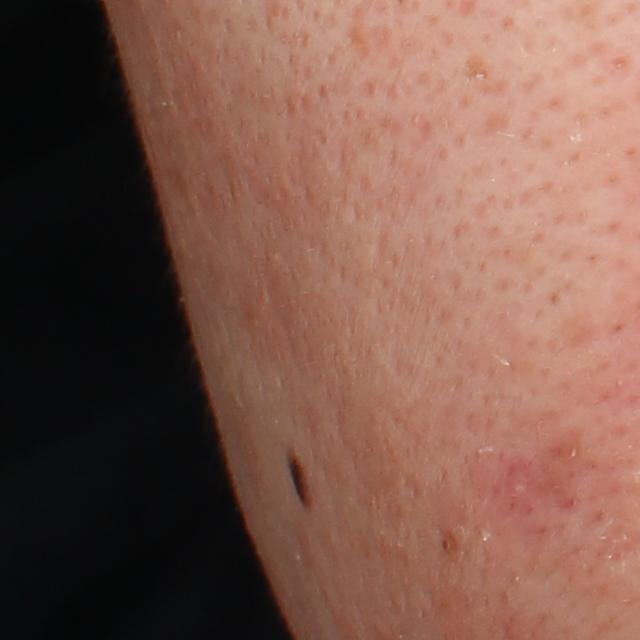nevus: (285, 449, 317, 510)
